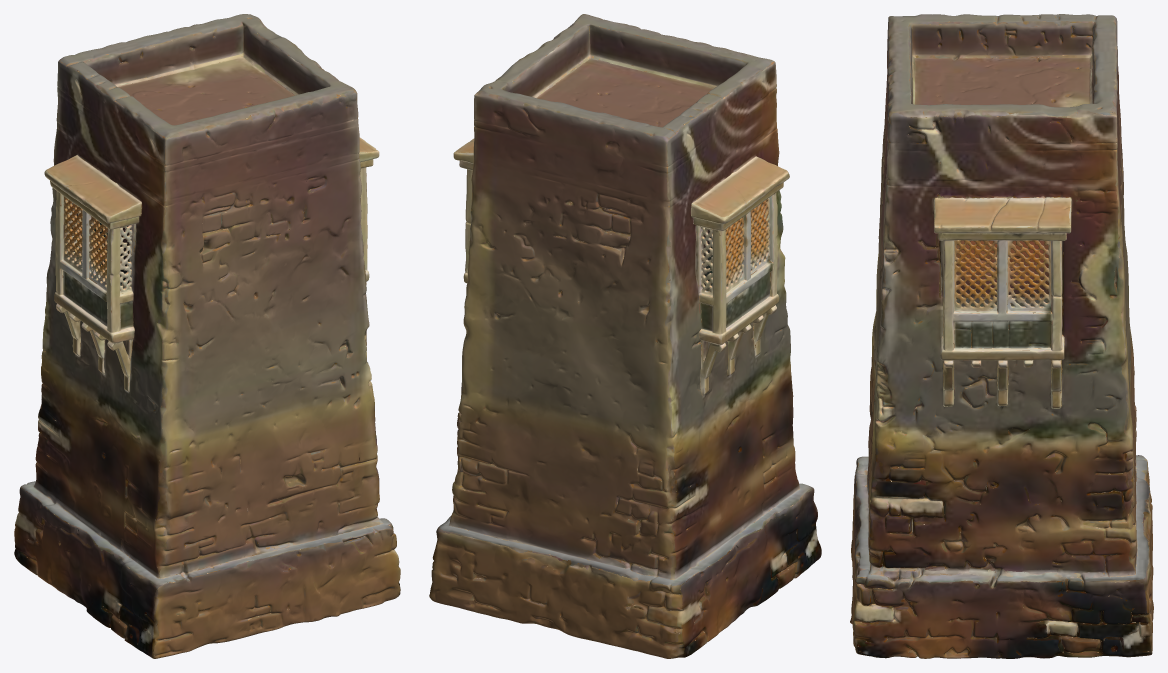
Rendered from desert-tower.glb.
3 renders of one model, left to right at view 1: azimuth 30°, elevation 25°; view 2: azimuth 150°, elevation 25°; view 3: azimuth 270°, elevation 25°, orthographic. The views are drawn at different scales.
Visible parts, largest first — view 1: tripo_node_ef08fe9e-a345-4d55-85fa-a53624bb3e92; view 2: tripo_node_ef08fe9e-a345-4d55-85fa-a53624bb3e92; view 3: tripo_node_ef08fe9e-a345-4d55-85fa-a53624bb3e92.
Boxes of the visible parts, x1,y1,x2,y2 form: tripo_node_ef08fe9e-a345-4d55-85fa-a53624bb3e92: (14, 14, 400, 658); tripo_node_ef08fe9e-a345-4d55-85fa-a53624bb3e92: (429, 14, 821, 658); tripo_node_ef08fe9e-a345-4d55-85fa-a53624bb3e92: (850, 14, 1153, 658).
Bounding box in the file's own units: 0.5641 × 1 × 0.5174.
1 material, 1 textured.
